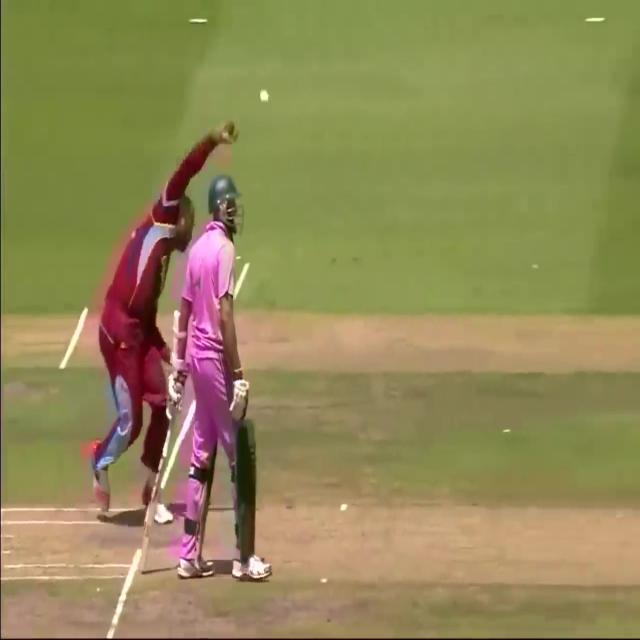Ball: (167, 181, 254, 583)
Fielder: (87, 81, 236, 554)
